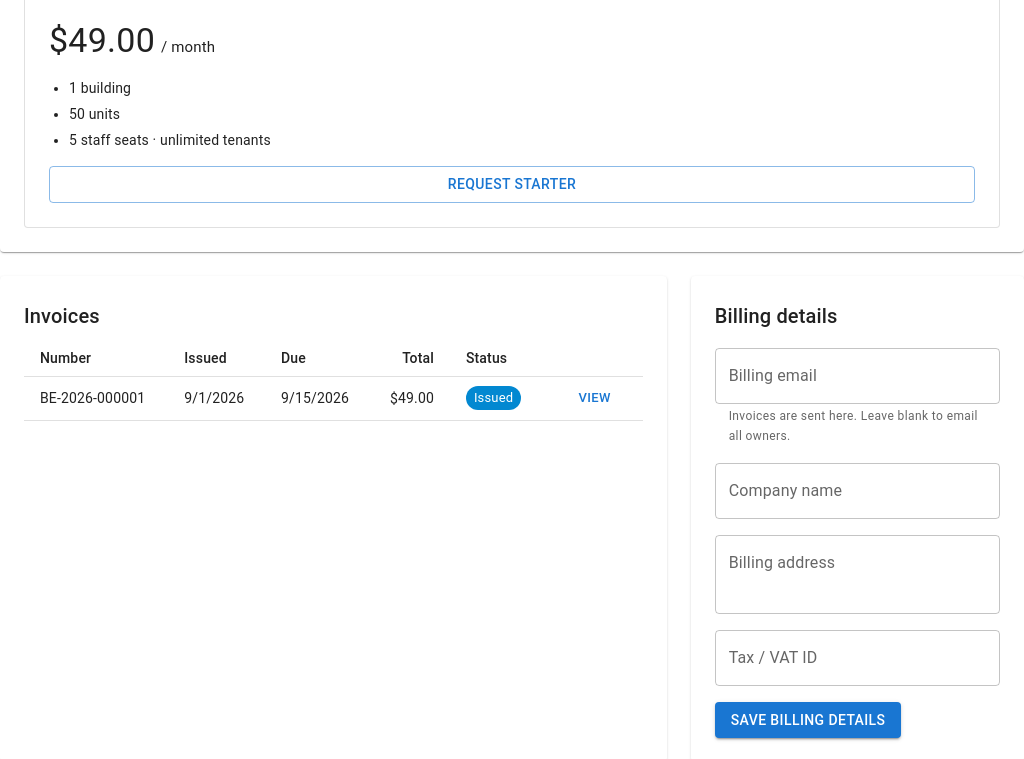
saves a valid billing profile and confirms it
The image size is (1024, 759).
(page scrolled)
In the field labelled "Billing email": (857, 376) [715,348,1000,404], type "billing@acme.test"
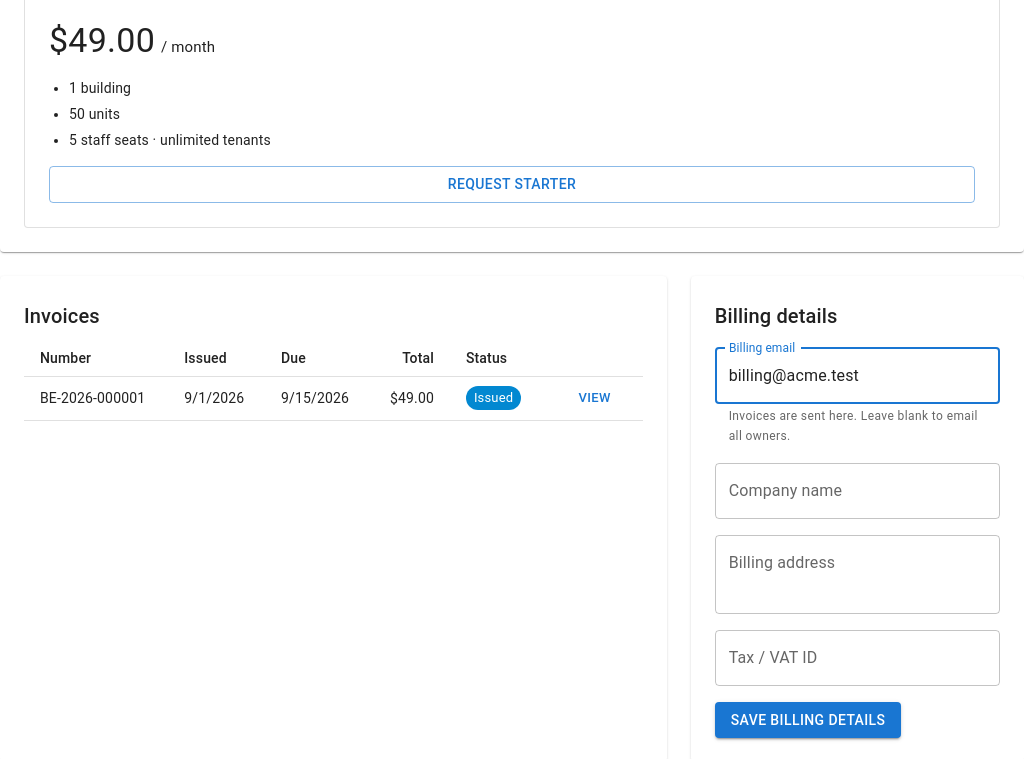
In the field labelled "Company name": (857, 491) [715,463,1000,519], type "Acme"
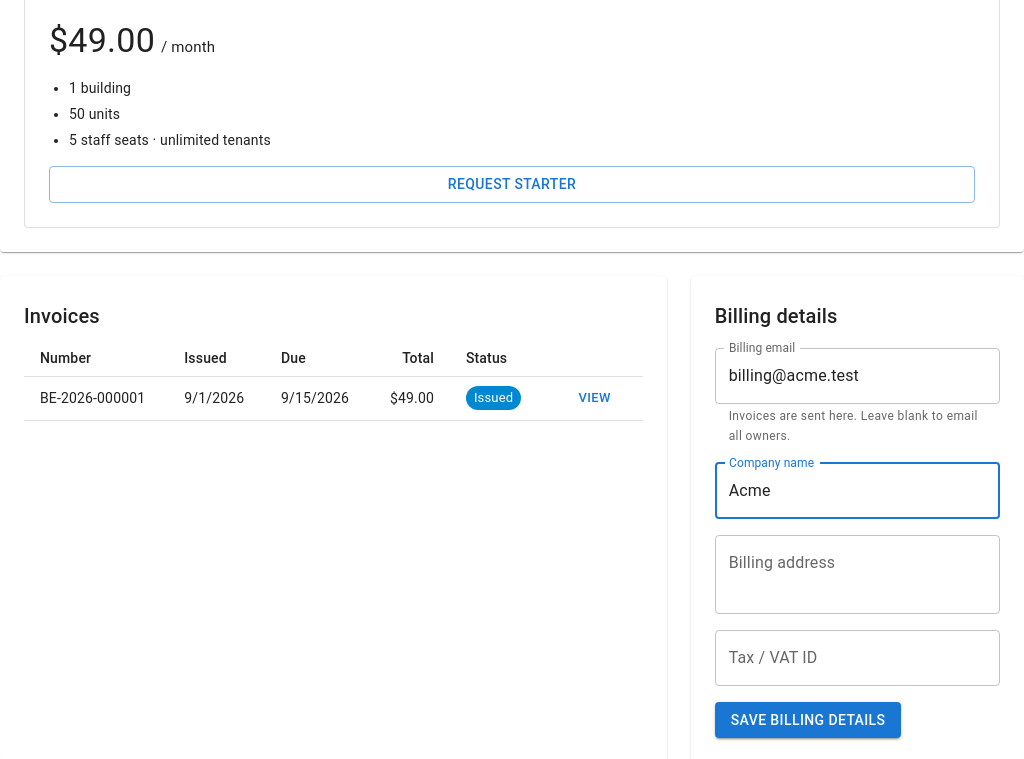
Click the button "Save billing details": (808, 720) [715,702,902,738]
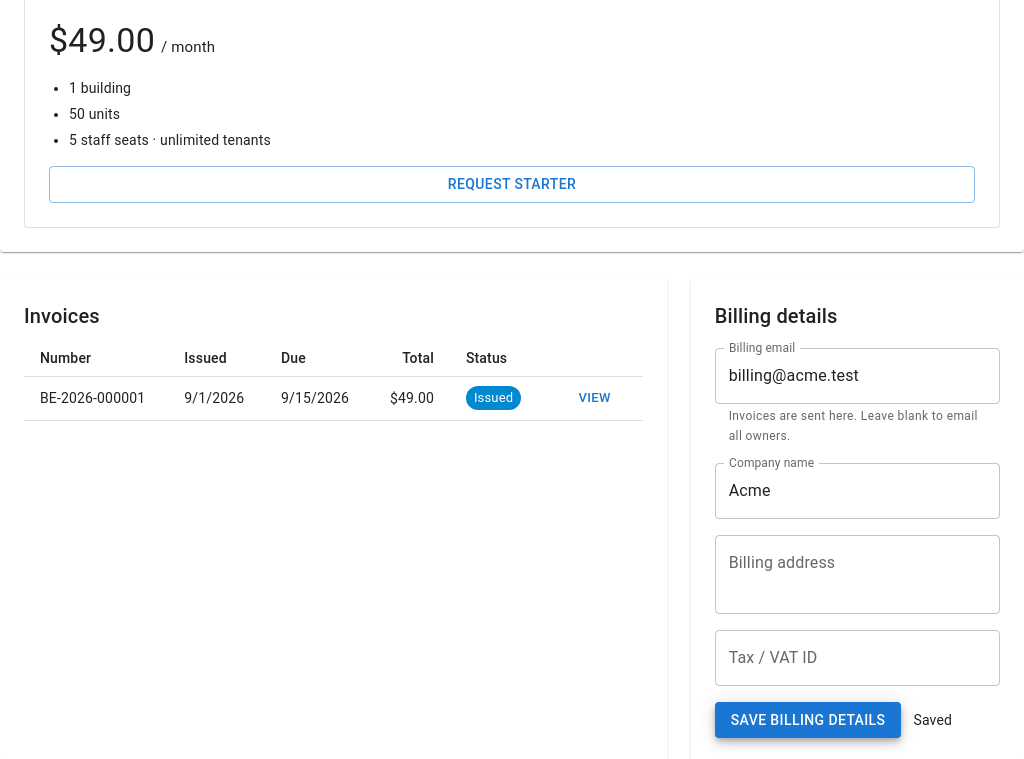
Result: the text "Saved" is shown at [913,710,952,730]
